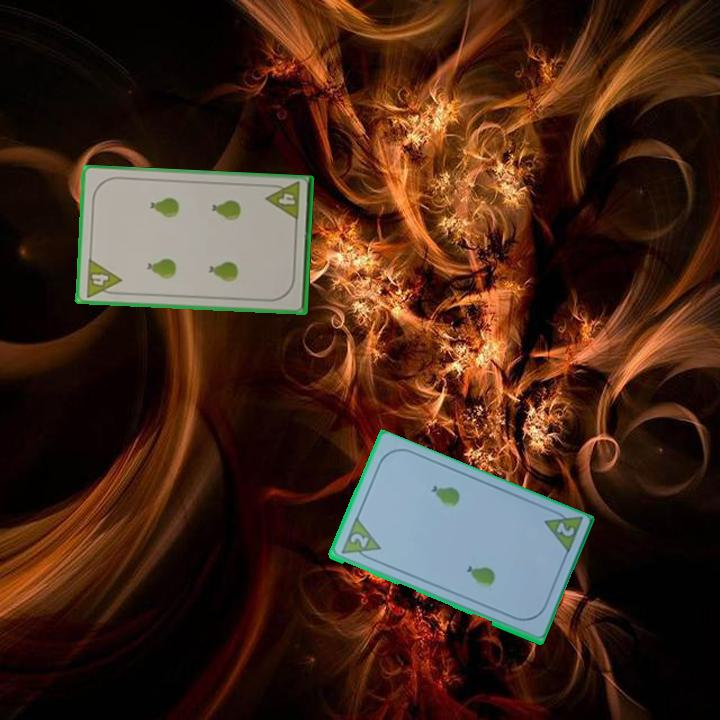2p: (346, 530, 371, 551), (552, 519, 577, 540)
4p: (82, 255, 124, 300), (263, 179, 303, 224)
